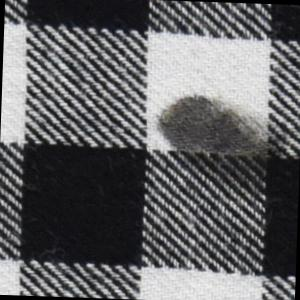Stain: (151, 91, 292, 206)
